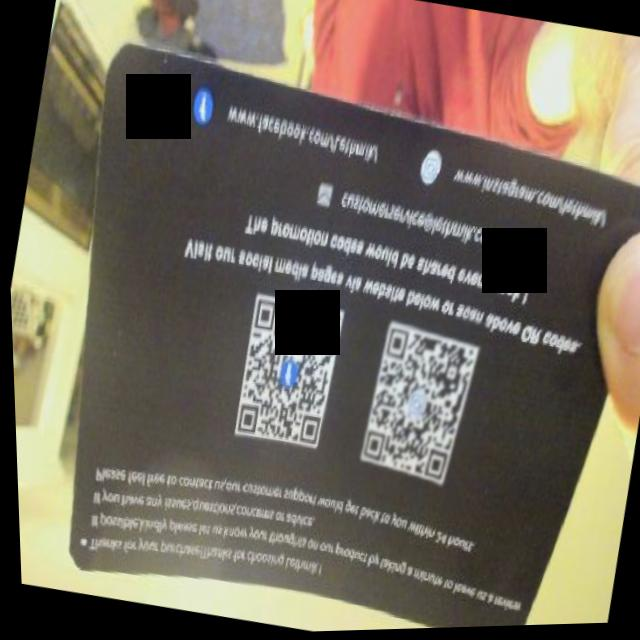QR_CODE: (333, 302, 493, 512), (213, 284, 353, 476)
